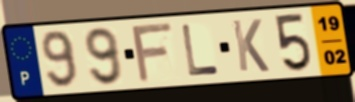5: (273, 11, 313, 74)
9: (39, 29, 81, 90), (83, 26, 123, 87)
F: (129, 20, 175, 85)
K: (229, 18, 272, 74)
L: (180, 23, 221, 78)
